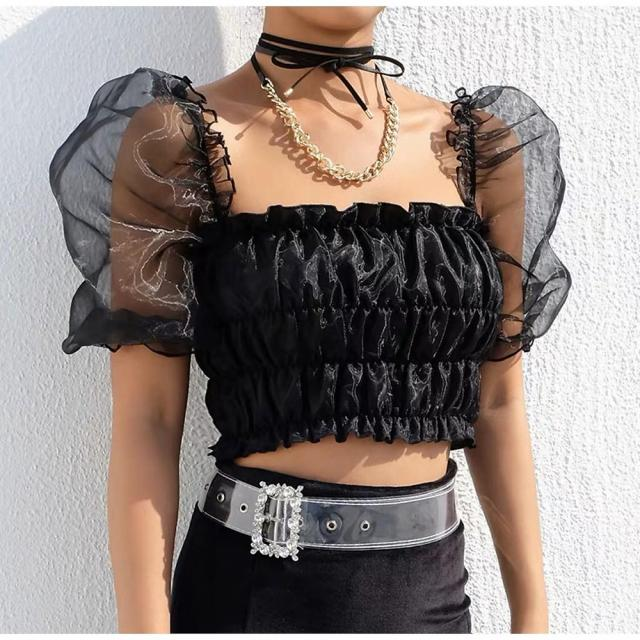clothes: (58, 60, 568, 640)
